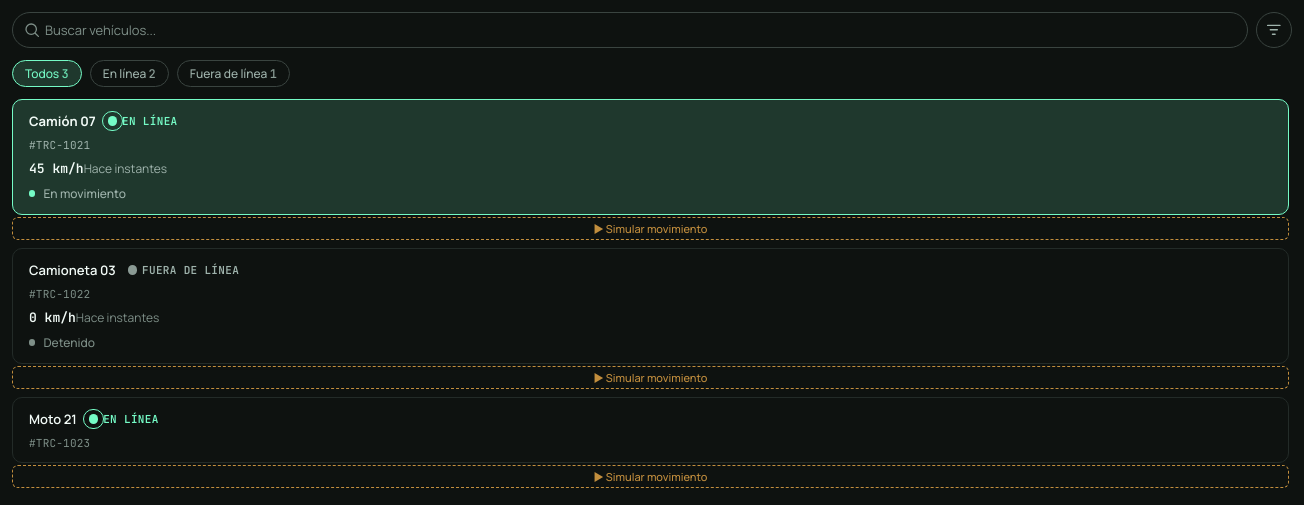
Test case: <DeviceListPanel /> › filtra por chip de estado sin tocar la selección activa
Click the button "Fuera de línea 1": (233, 74) [177, 60, 290, 87]
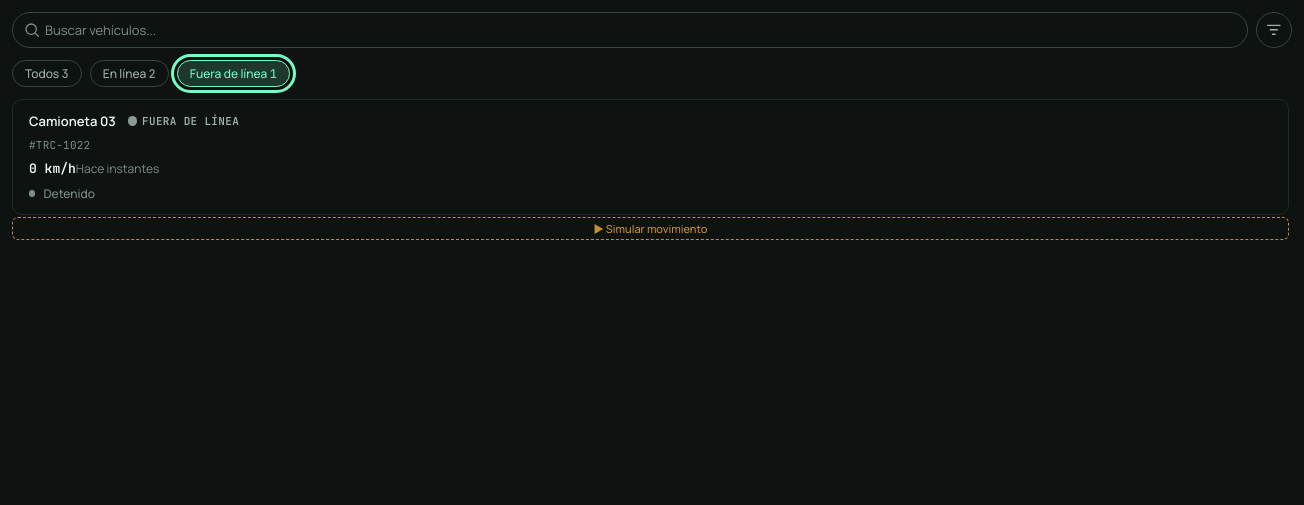
Expected: the text "Camioneta 03" is shown, [29, 112, 116, 130]
Result: the button "Camión 07" is gone
Result: the button "Moto 21" is gone
